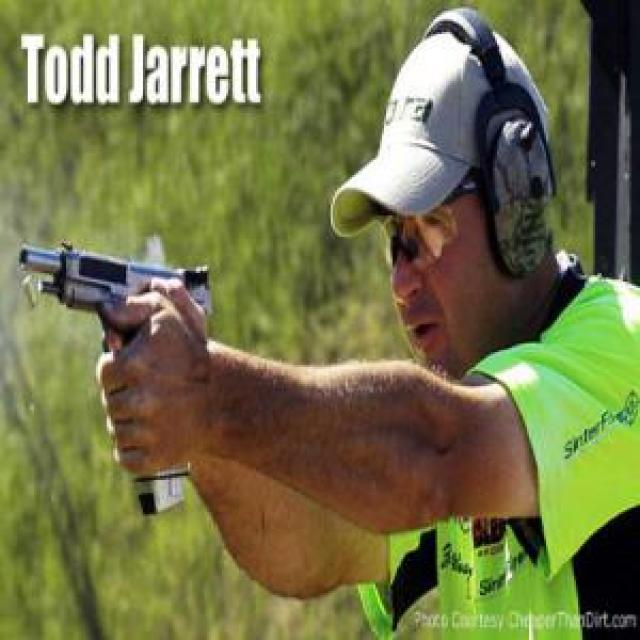pistol: (15, 239, 210, 514)
